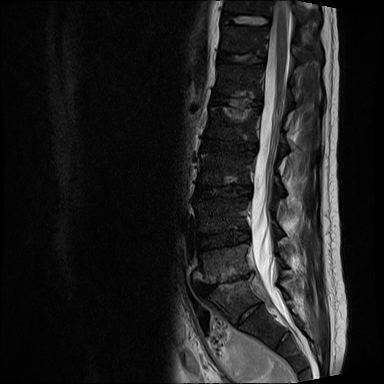Degenerative Disc Disease (DDD): (195, 263, 258, 300), (189, 176, 257, 203), (192, 134, 263, 155), (207, 89, 263, 111)
Lumbar Disc Bulge (LDB): (191, 215, 263, 255), (199, 262, 261, 300)
Normal IVD: (215, 10, 273, 29)
Spinal Stenosis (SS): (236, 213, 261, 248)
Spondylolisthesis: (196, 254, 264, 322)
Thoracic Disc Bulge (TDB): (209, 44, 270, 69)
